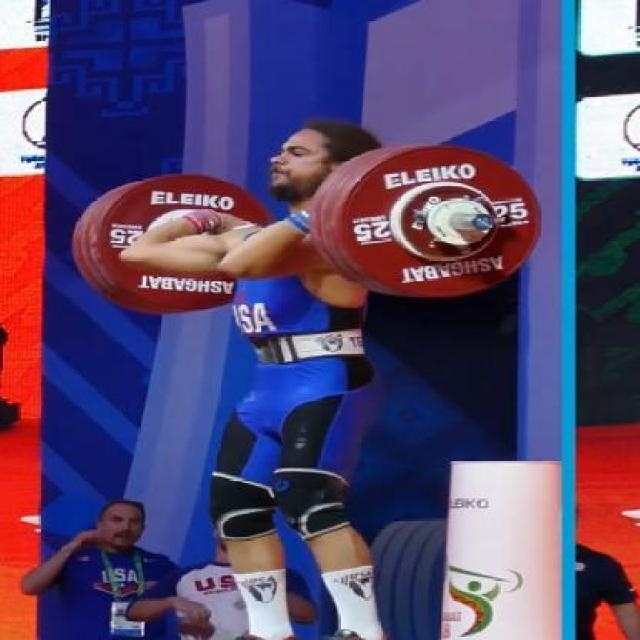barbell: (338, 143, 549, 307)
